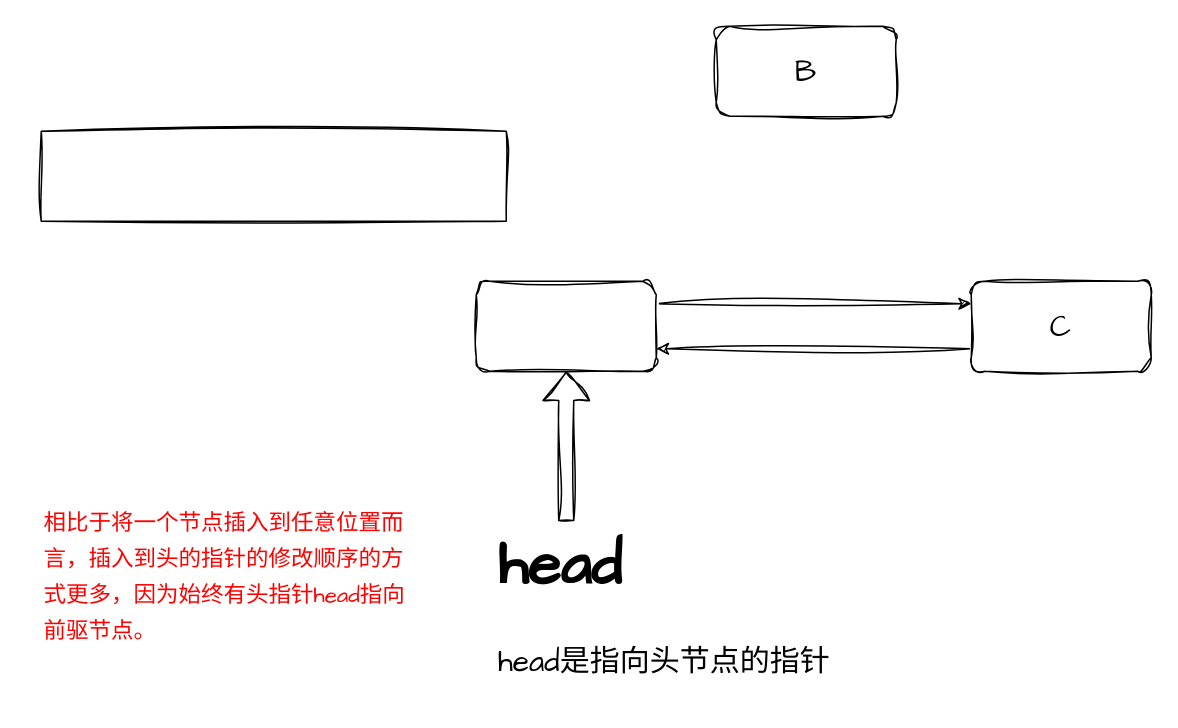
This 1178x728 diagram has some shape labels left out. The box of each missing label's shape, as (x1, y1, x2, y2) in pixels:
Head: (475, 280, 656, 371)
将B节点插入到Head、C节点之间: (40, 130, 506, 221)
